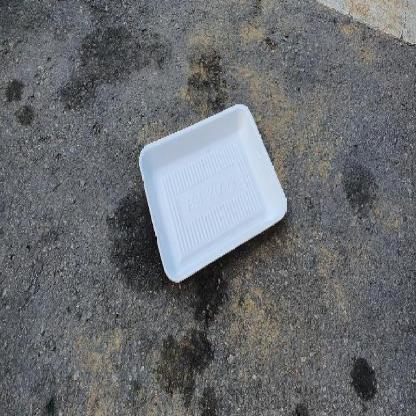Glass Cup: (140, 102, 286, 283), (139, 104, 287, 282)
